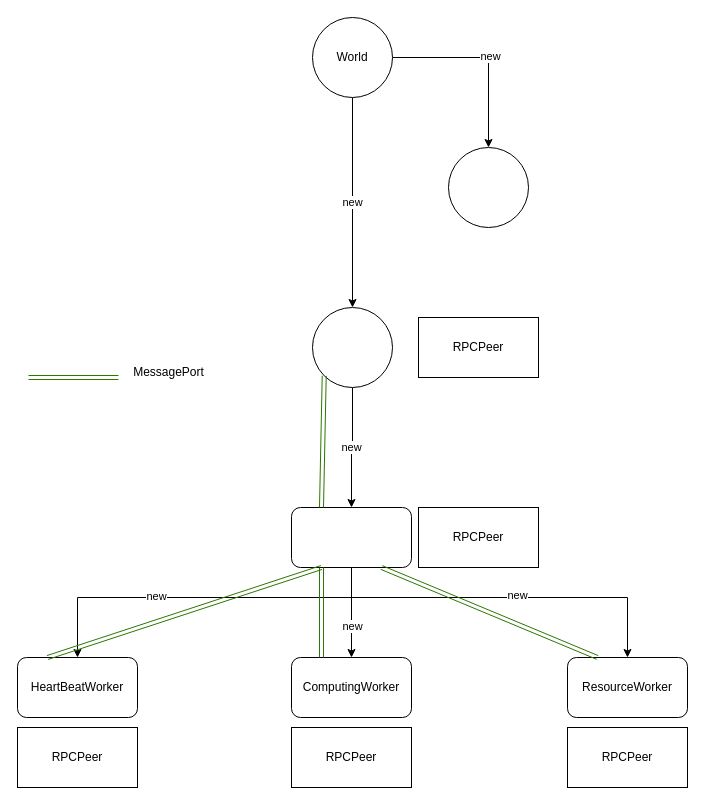
Image size: 705x805. Some labels were removed from this diagram. The shapes that lost their labels are listed below. From the top down, each one's centre as x and y in pixels, then its label:
At (488,187): "Game".
At (352,347): "Render".
At (351,537): "MainWorker".
